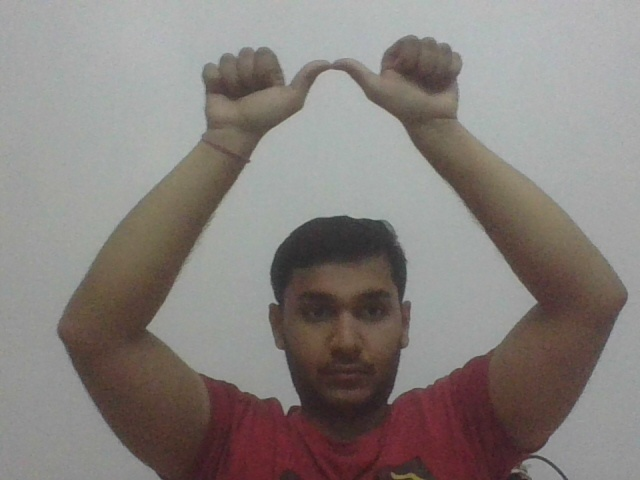A: (190, 33, 473, 125)
